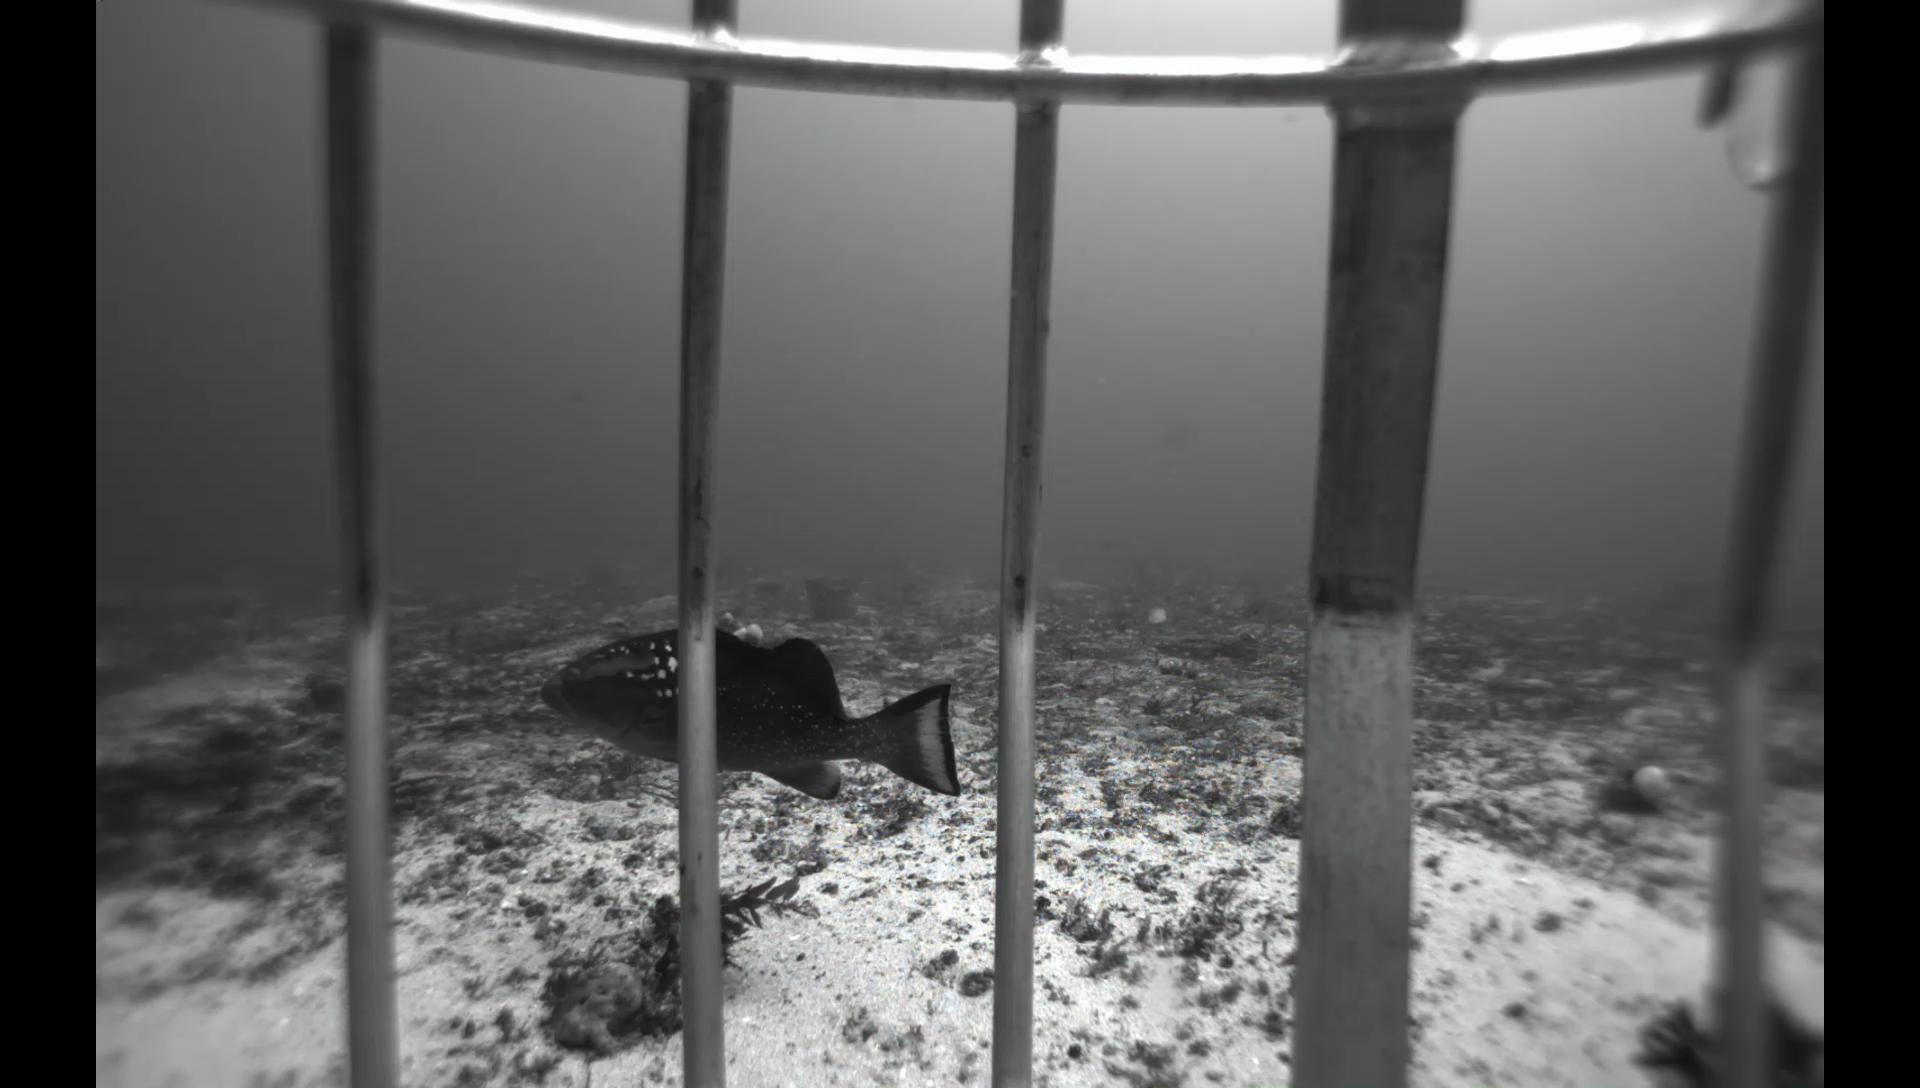CHAETODONOCELLATUS-170260307: (1211, 586, 1258, 616), (1133, 597, 1174, 629)
EPINEPHELUSMORIO-170021211: (522, 619, 973, 812)
PRISTIGENYSALTA-170050401: (295, 677, 345, 719)
